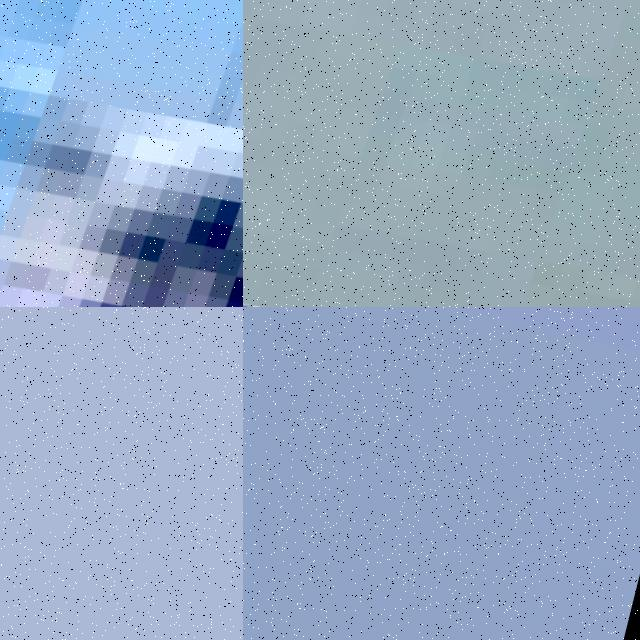0: (0, 0, 243, 307)
drone: (243, 0, 640, 307)
